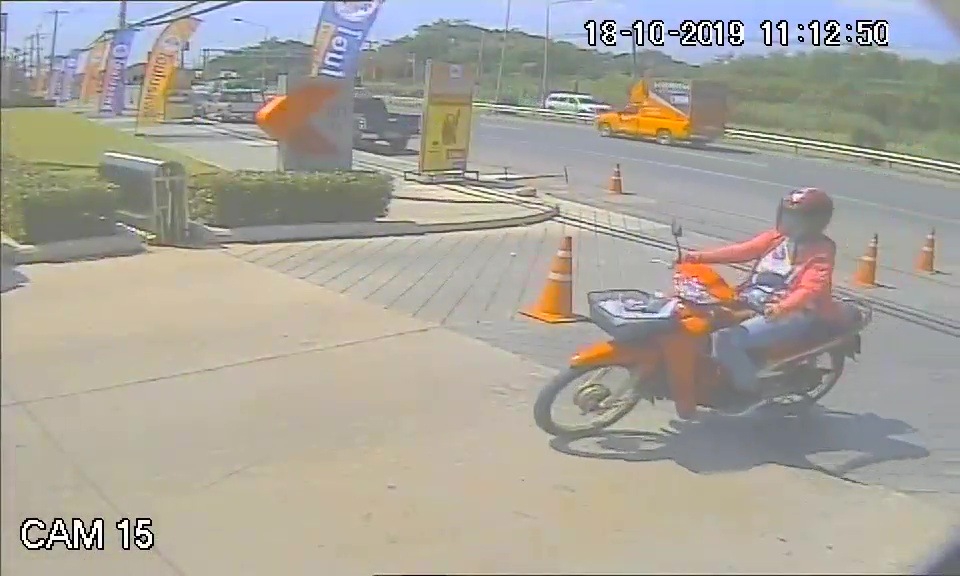motorcycle: (532, 258, 869, 438)
